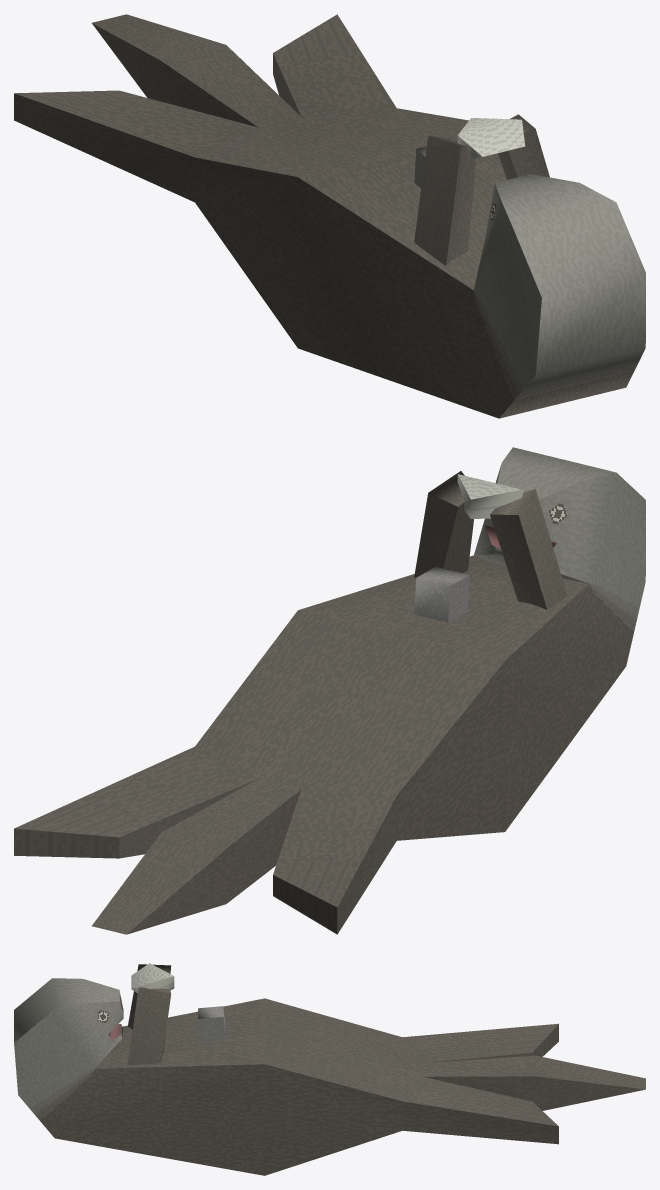
The model's file is 0202_Sea_Otter.glb.
3 views of the same model, one above another, from view 1: azimuth 30°, elevation 25°; view 2: azimuth 150°, elevation 25°; view 3: azimuth 270°, elevation 25° (orthographic). The views are drawn at different scales.
Visible parts, largest first — view 1: part_0; view 2: part_0; view 3: part_0.
Part boxes in pixels (<box>): part_0: <box>14,14,645,418</box>; part_0: <box>14,447,645,934</box>; part_0: <box>14,963,645,1175</box>.
Bounding box in the file's own units: 0.3756 × 0.2889 × 0.9754.
1 material, 1 textured.
